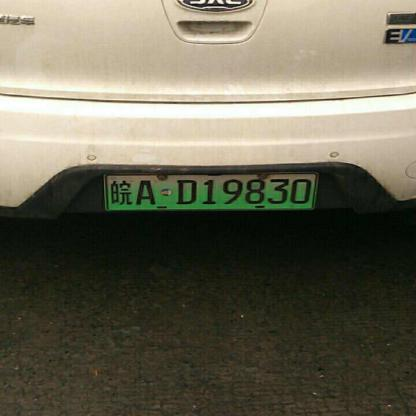lp: (106, 172, 314, 208)
